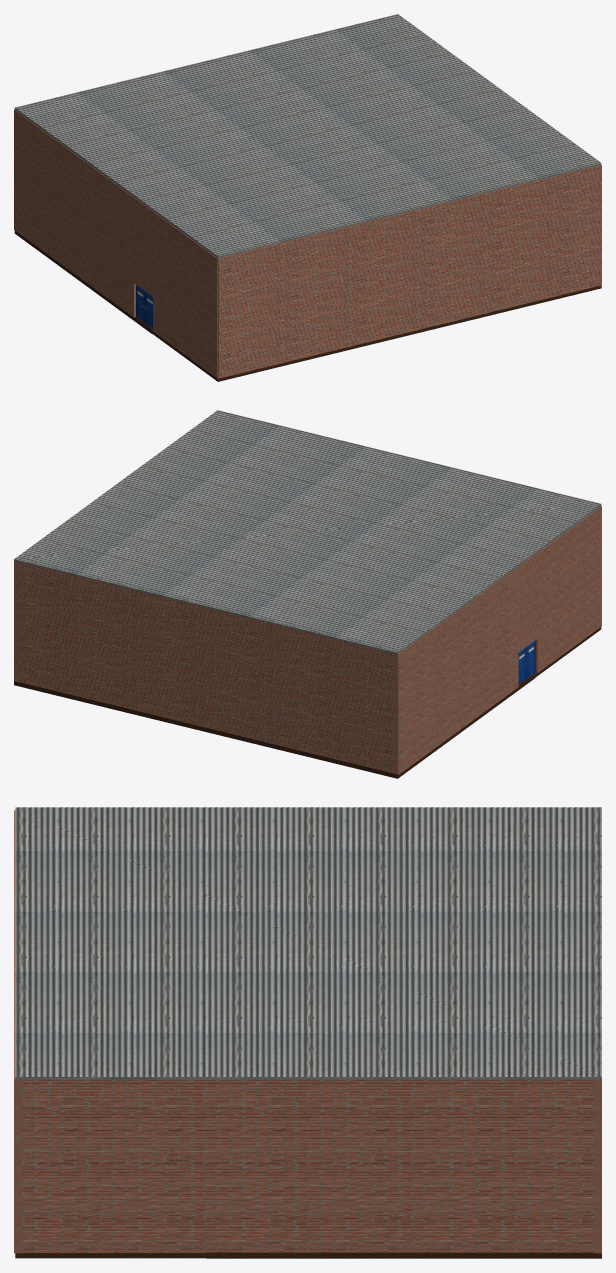
File: Cancha.fbx
3 renders of one model, top to bottom at view 1: azimuth 30°, elevation 25°; view 2: azimuth 150°, elevation 25°; view 3: azimuth 270°, elevation 25°, orthographic. The views are drawn at different scales.
Visible parts, largest first — view 1: Cube.214, Cube.210, Cube.208, Cube.211, Cube.212, Cube, AfuerasCancha; view 2: Cube.214, Cube.209, Cube.208, Cube.211, AfuerasCancha, Cube.212, Cube.207; view 3: Cube.214, Cube.207, AfuerasCancha, Cube.210, Cube.209, Cube.
Boxes of the visible parts, left/top/right/bottom form: Cube.214: left=14, top=14, right=601, bottom=258; Cube.210: left=218, top=165, right=601, bottom=378; Cube.208: left=14, top=109, right=135, bottom=317; Cube.211: left=153, top=211, right=217, bottom=378; Cube.212: left=134, top=197, right=153, bottom=296; Cube: left=151, top=285, right=601, bottom=381; AfuerasCancha: left=14, top=230, right=152, bottom=333; Cube.214: left=14, top=410, right=601, bottom=654; Cube.209: left=19, top=562, right=393, bottom=773; Cube.208: left=393, top=567, right=518, bottom=774; Cube.211: left=536, top=506, right=601, bottom=672; AfuerasCancha: left=14, top=674, right=534, bottom=778; Cube.212: left=518, top=553, right=537, bottom=652; Cube.207: left=14, top=561, right=18, bottom=682; Cube.214: left=15, top=807, right=601, bottom=1079; Cube.207: left=22, top=1080, right=593, bottom=1252; AfuerasCancha: left=206, top=1252, right=601, bottom=1258; Cube.210: left=14, top=810, right=22, bottom=1253; Cube.209: left=593, top=1080, right=601, bottom=1253; Cube: left=15, top=1253, right=206, bottom=1258.
Bounding box in the file's own units: 2344 × 737 × 2155.
16 materials, 12 textured.
